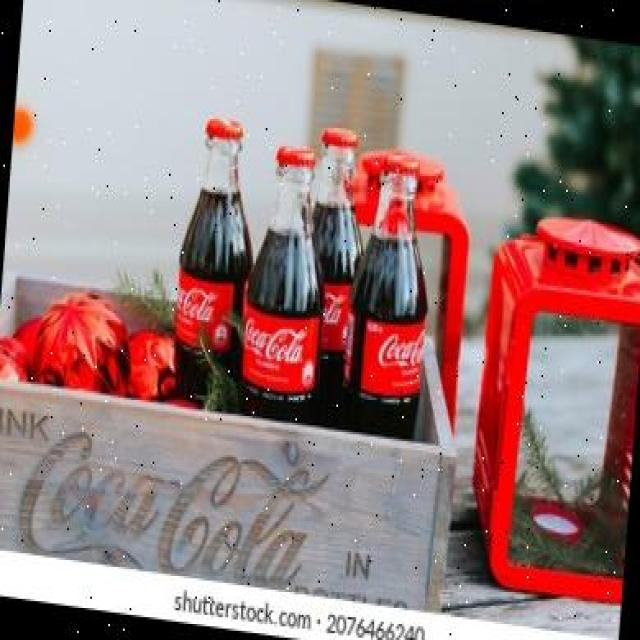coca-cola: (232, 132, 336, 436), (164, 108, 263, 402), (345, 151, 443, 432), (291, 116, 374, 412)
